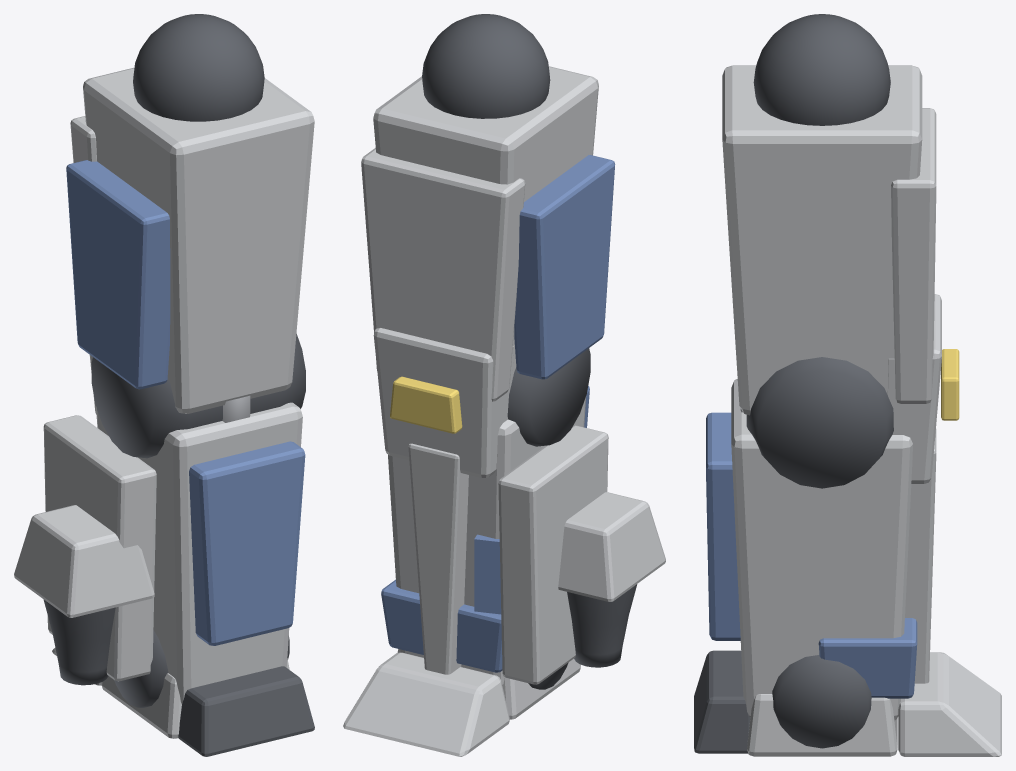
The model's file is leg_heavy_l.glb.
3 renders of one model, left to right at view 1: azimuth 30°, elevation 25°; view 2: azimuth 150°, elevation 25°; view 3: azimuth 270°, elevation 25°, orthographic. The views are drawn at different scales.
Visible parts, largest first — view 1: thigh, calf, thigh_side, shin, shin_armor2, hip_joint, hover_fairing, heel, knee, hover_pod, foot, ankle (+2 smaller); view 2: thigh_front, shin_armor2, thigh_side, thigh, toe, knee_cap, hip_joint, shin_ridge, hover_fairing, shin, knee, ankle_guard (+4 smaller); view 3: thigh, shin, knee, hip_joint, thigh_front, toe, ankle, calf, heel, foot, shin_ridge, ankle_guard (+2 smaller).
Boxes of the visible parts, left/top/right/bottom form: thigh: left=83, top=67, right=314, bottom=413; calf: left=189, top=441, right=305, bottom=645; thigh_side: left=66, top=160, right=170, bottom=389; shin: left=96, top=402, right=302, bottom=703; shin_armor2: left=43, top=415, right=156, bottom=681; hip_joint: left=133, top=14, right=264, bottom=121; hover_fairing: left=14, top=505, right=154, bottom=617; heel: left=178, top=666, right=314, bottom=756; knee: left=91, top=333, right=305, bottom=458; hover_pod: left=43, top=599, right=115, bottom=685; foot: left=101, top=658, right=289, bottom=738; ankle: left=114, top=630, right=289, bottom=707; thigh_front: left=361, top=148, right=525, bottom=401; shin_armor2: left=498, top=425, right=608, bottom=684; thigh_side: left=514, top=155, right=615, bottom=379; thigh: left=373, top=66, right=598, bottom=379; toe: left=343, top=652, right=509, bottom=756; knee_cap: left=373, top=328, right=513, bottom=477; hip_joint: left=422, top=14, right=550, bottom=118; shin_ridge: left=408, top=443, right=468, bottom=674; hover_fairing: left=558, top=492, right=665, bottom=601; shin: left=388, top=396, right=586, bottom=685; knee: left=507, top=348, right=590, bottom=446; ankle_guard: left=381, top=579, right=502, bottom=672; thigh: left=722, top=65, right=922, bottom=415; shin: left=731, top=379, right=912, bottom=720; knee: left=746, top=357, right=893, bottom=488; hip_joint: left=753, top=14, right=890, bottom=125; thigh_front: left=891, top=108, right=936, bottom=403; toe: left=898, top=652, right=1001, bottom=756; ankle: left=772, top=655, right=871, bottom=748; calf: left=706, top=412, right=740, bottom=640; heel: left=694, top=650, right=750, bottom=753; foot: left=747, top=694, right=897, bottom=756; shin_ridge: left=905, top=429, right=936, bottom=683; ankle_guard: left=818, top=618, right=917, bottom=698.
Bounding box in the file's own units: 3.13 × 8.7 × 3.43.
